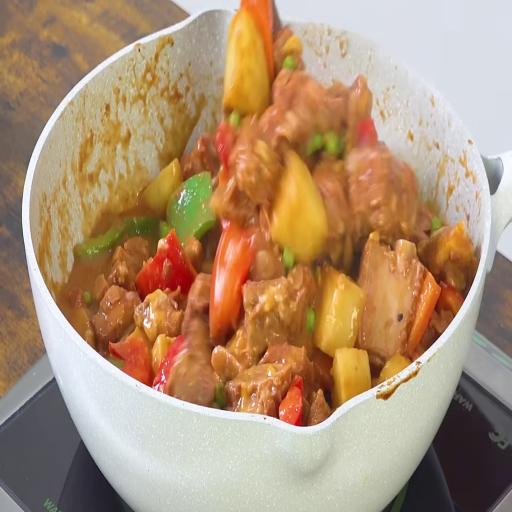pork caldereta: (84, 3, 472, 432)
